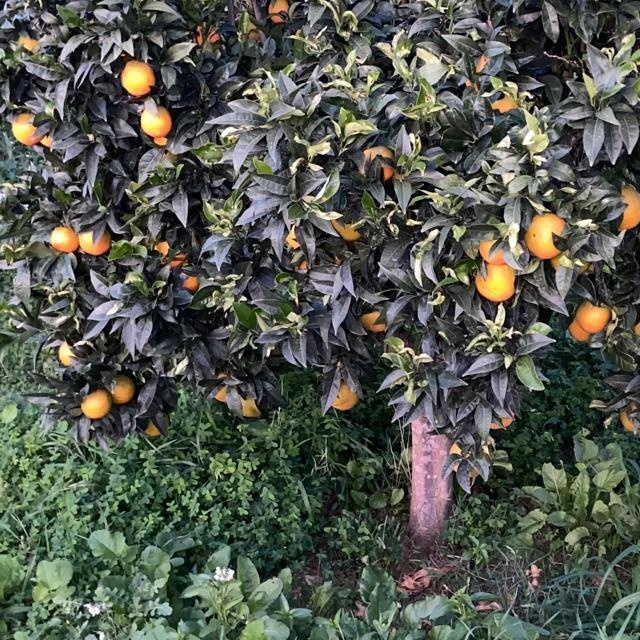orange: (446, 434, 496, 490), (525, 208, 567, 262), (282, 222, 316, 274), (474, 261, 516, 303), (234, 17, 274, 61), (326, 208, 364, 252), (139, 99, 173, 143), (474, 228, 518, 262), (573, 297, 611, 335), (119, 56, 155, 96), (360, 145, 396, 183), (3, 29, 45, 61), (618, 177, 640, 233), (480, 405, 520, 435), (328, 375, 362, 409), (567, 304, 597, 340), (81, 386, 111, 420), (10, 108, 38, 144), (151, 235, 183, 265), (618, 395, 640, 437), (82, 224, 112, 254), (49, 221, 77, 253), (108, 371, 136, 401), (193, 20, 223, 48), (359, 306, 391, 332), (261, 0, 293, 25), (490, 86, 520, 112), (457, 76, 485, 100), (135, 417, 163, 441), (238, 395, 264, 417), (472, 53, 492, 81), (57, 338, 77, 366), (181, 270, 203, 294), (213, 380, 231, 402), (631, 313, 640, 337), (384, 0, 422, 3)
